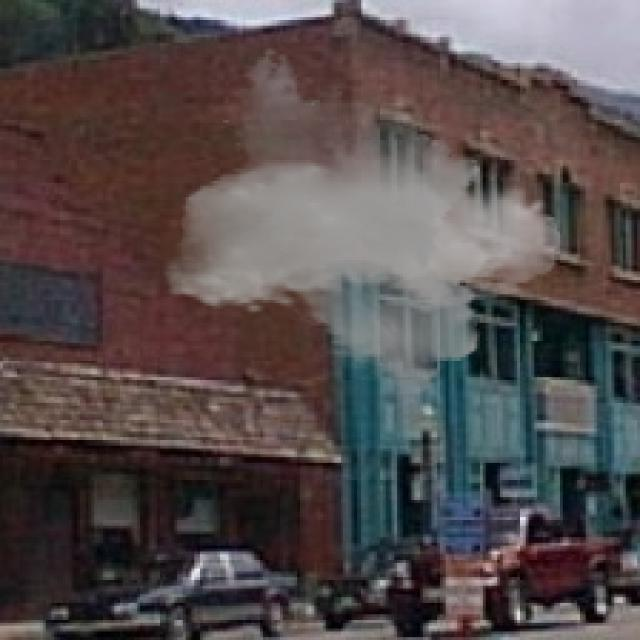smoke: (163, 46, 563, 406)
